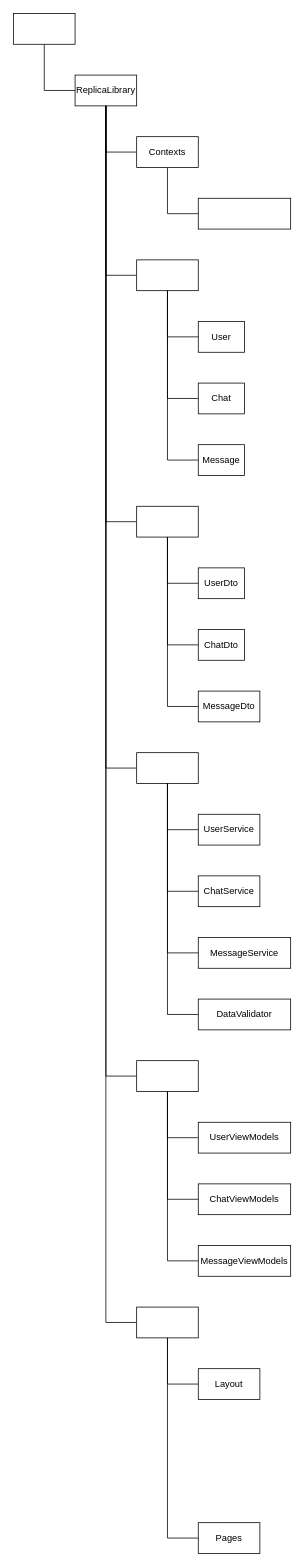
Image size: 304x1567. Some labels were removed from this diagram. Each missing label, with the centre of its shape:
"Components" goes at [167,1322].
"DTOs" goes at [167,521].
"Models" goes at [167,275].
"ReplicaApp" goes at [44,28].
"ReplicaDbContext" goes at [244,213].
"Services" goes at [167,767].
"ViewModels" goes at [167,1075].
